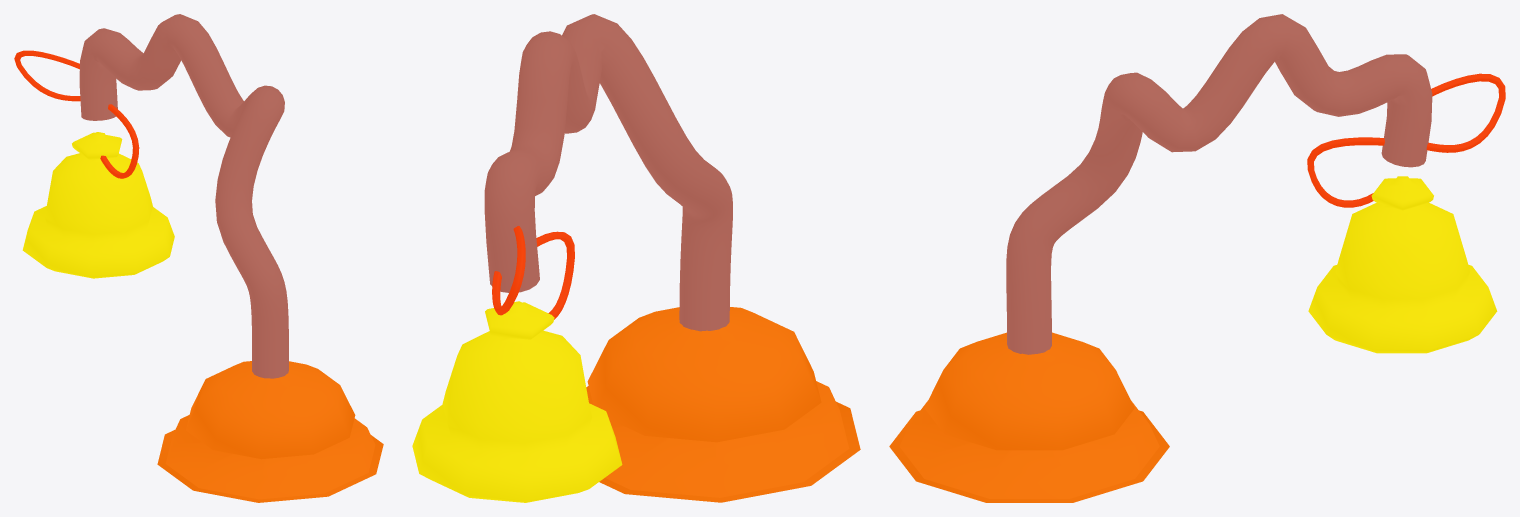
The model's file is cloche.glb.
The picture shows the model from 3 angles, left to right: view 1: azimuth 30°, elevation 25°; view 2: azimuth 150°, elevation 25°; view 3: azimuth 270°, elevation 25°; orthographic projection. The views are drawn at different scales.
Visible parts, largest first — view 1: pied_cloche, tige_clcohe_MS, Cloche, maintien_cloche_MS; view 2: pied_cloche, tige_clcohe_MS, Cloche, maintien_cloche_MS; view 3: pied_cloche, tige_clcohe_MS, Cloche, maintien_cloche_MS.
Part boxes in pixels (x1,y1,x2,y2): pied_cloche: [157, 361, 383, 502]; tige_clcohe_MS: [79, 14, 288, 378]; Cloche: [22, 132, 174, 278]; maintien_cloche_MS: [14, 50, 139, 178]; pied_cloche: [586, 307, 860, 502]; tige_clcohe_MS: [484, 14, 732, 331]; Cloche: [412, 301, 622, 502]; maintien_cloche_MS: [492, 226, 574, 319]; pied_cloche: [889, 332, 1169, 502]; tige_clcohe_MS: [1006, 14, 1432, 354]; Cloche: [1308, 176, 1497, 353]; maintien_cloche_MS: [1307, 73, 1505, 207].
Size of the model in its own units: 1.9 by 3.44 by 4.39.
